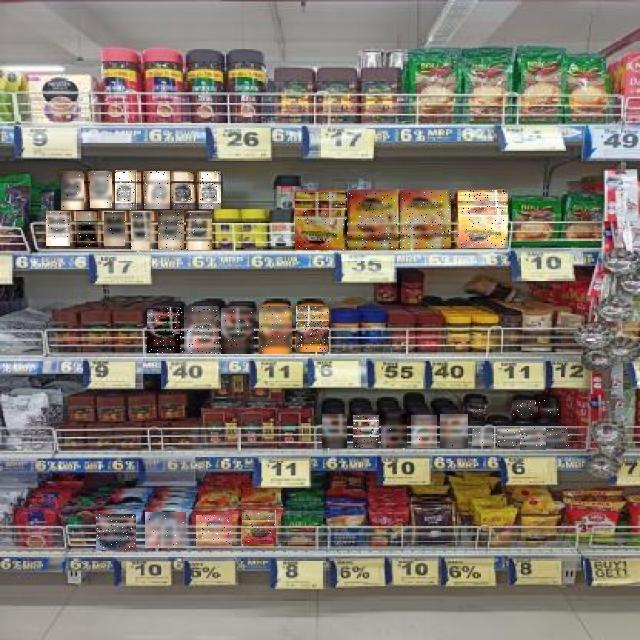Coffee: (295, 192, 347, 250), (400, 190, 451, 248), (348, 190, 397, 250), (458, 190, 508, 248), (184, 306, 219, 354), (148, 307, 184, 353), (259, 306, 292, 354), (222, 308, 256, 354), (296, 306, 329, 352), (145, 512, 186, 548), (96, 515, 136, 551), (242, 511, 276, 545), (197, 515, 233, 547), (159, 210, 185, 250), (144, 171, 170, 209), (186, 212, 212, 250), (116, 170, 140, 210), (440, 415, 468, 449), (381, 414, 407, 448), (61, 172, 84, 210), (411, 415, 437, 448), (353, 415, 379, 448), (322, 414, 347, 448), (199, 171, 221, 209), (132, 212, 154, 250), (47, 212, 71, 246), (76, 210, 98, 247), (90, 172, 112, 208), (172, 172, 194, 208), (104, 212, 125, 246), (520, 428, 546, 450), (497, 428, 520, 448), (546, 428, 570, 447), (466, 399, 488, 418), (512, 400, 536, 417), (538, 398, 559, 416), (472, 428, 493, 446)
